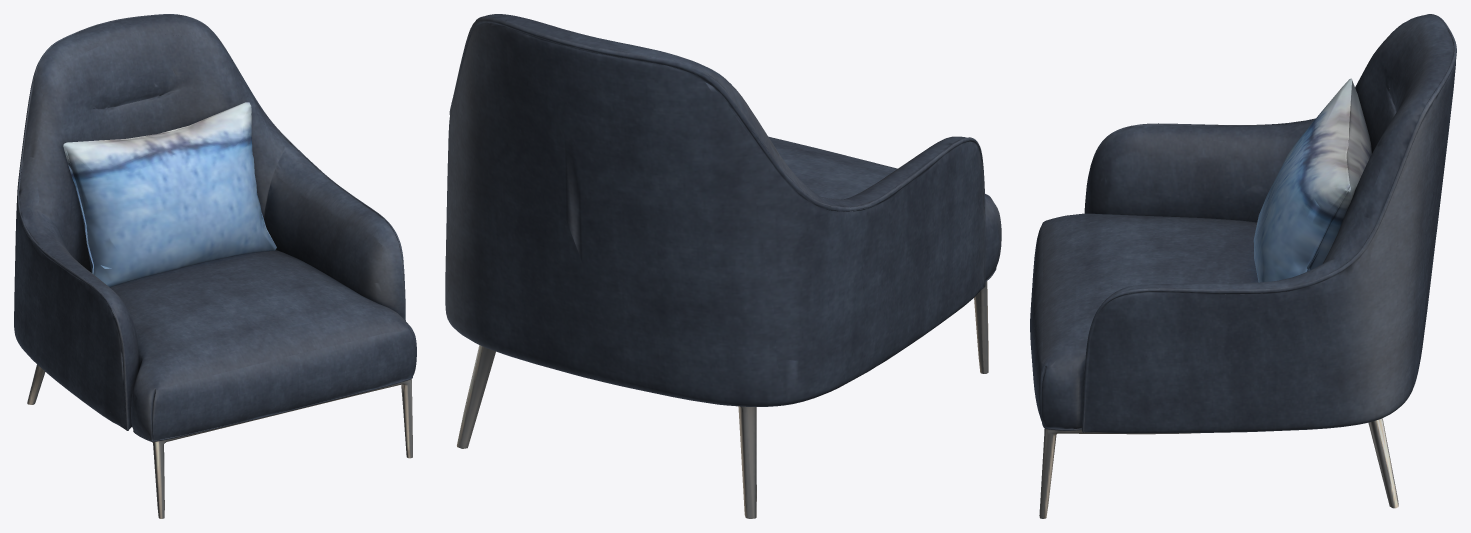
The model's file is raw_model.obj.
The picture shows the model from 3 angles, left to right: view 1: azimuth 30°, elevation 25°; view 2: azimuth 150°, elevation 25°; view 3: azimuth 270°, elevation 25°; orthographic projection. The views are drawn at different scales.
Visible parts, largest first — view 1: solid_001, solid_003, solid_002; view 2: solid_001, solid_002; view 3: solid_001, solid_003, solid_002.
Part boxes in pixels (<box>): solid_001: <box>14,14,416,441</box>; solid_003: <box>63,102,276,287</box>; solid_002: <box>27,364,412,518</box>; solid_001: <box>445,14,1001,406</box>; solid_002: <box>457,281,988,518</box>; solid_001: <box>1030,14,1456,433</box>; solid_003: <box>1253,78,1371,282</box>; solid_002: <box>1039,418,1398,518</box>.
Size of the model in its own units: 0.6699 by 0.7366 by 0.7192.
1 material, 1 textured.
